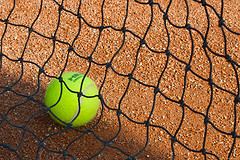tennis ball: (44, 71, 100, 126)
